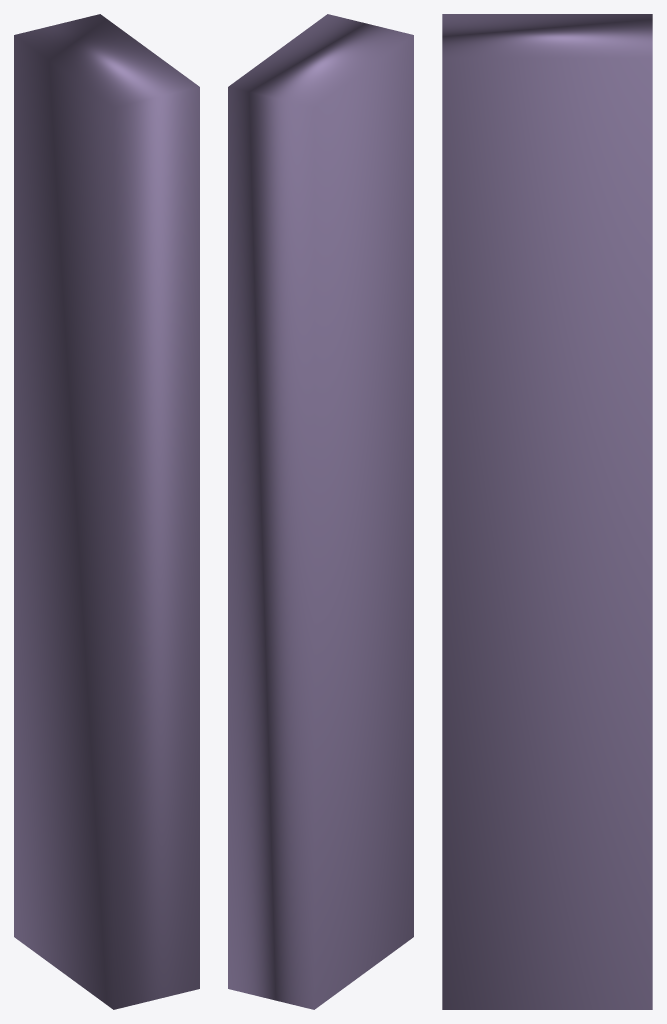
Rendered from Wall_Orn_01_x2.fbx.
The picture shows the model from 3 angles, left to right: view 1: azimuth 30°, elevation 25°; view 2: azimuth 150°, elevation 25°; view 3: azimuth 270°, elevation 25°; orthographic projection. The views are drawn at different scales.
Visible parts, largest first — view 1: Wall_Orn_01_x2; view 2: Wall_Orn_01_x2; view 3: Wall_Orn_01_x2.
Boxes of the visible parts, x1=… form: Wall_Orn_01_x2: x1=14, y1=14, x2=199, y2=1009; Wall_Orn_01_x2: x1=228, y1=14, x2=413, y2=1009; Wall_Orn_01_x2: x1=442, y1=14, x2=652, y2=1009.
Bounding box in the file's own units: 30 × 300 × 60.
